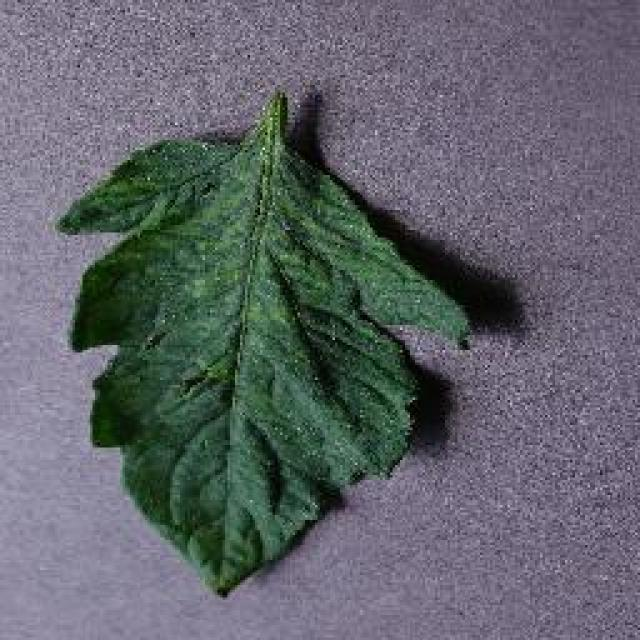Tomato___Tomato_mosaic_virus: (58, 92, 468, 592)
